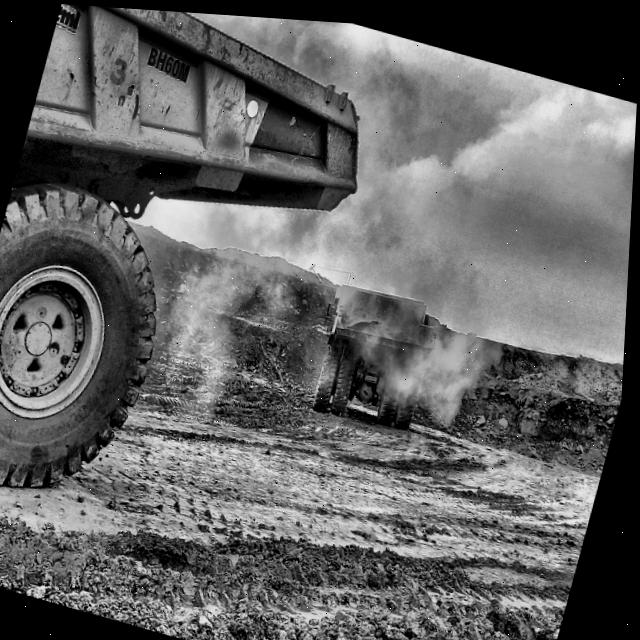dump_truck: (0, 3, 362, 490), (315, 277, 443, 424)
